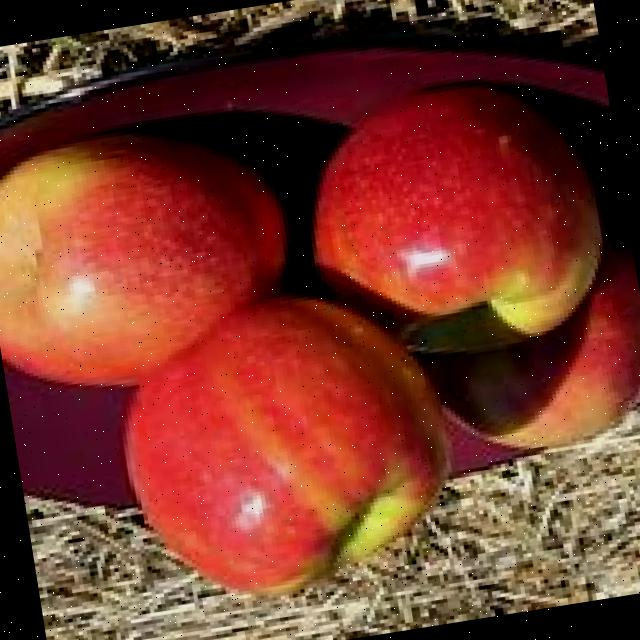apple: (104, 272, 474, 612)
